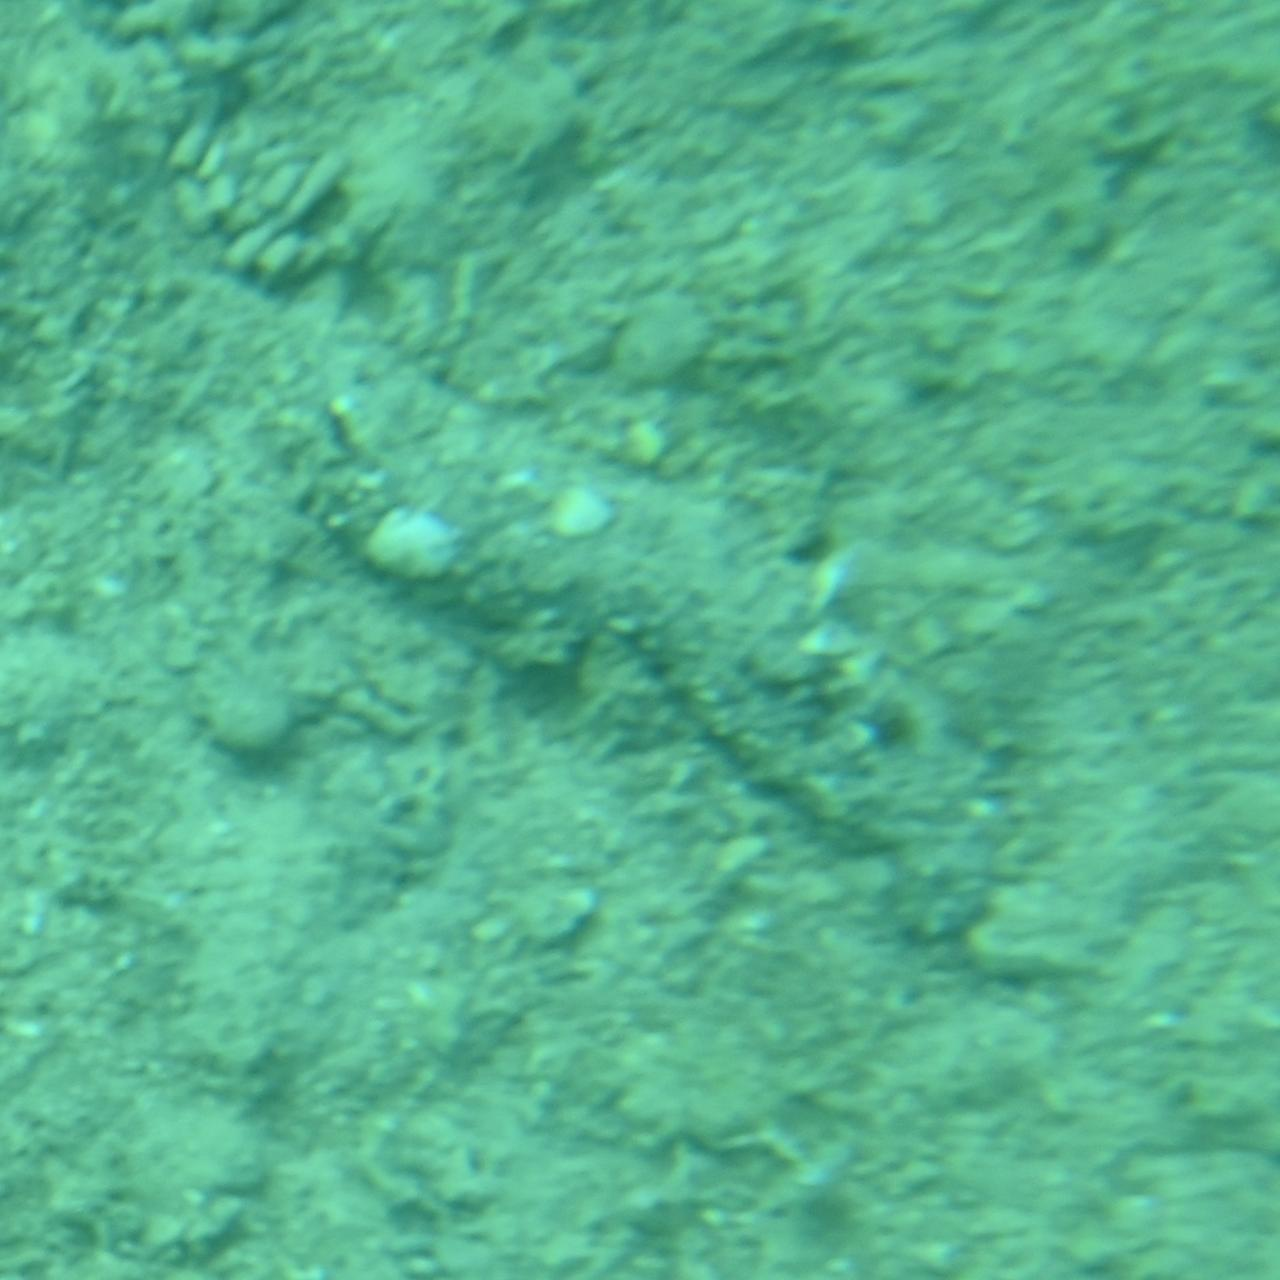Holothuria tubulosa: (290, 360, 990, 920)
